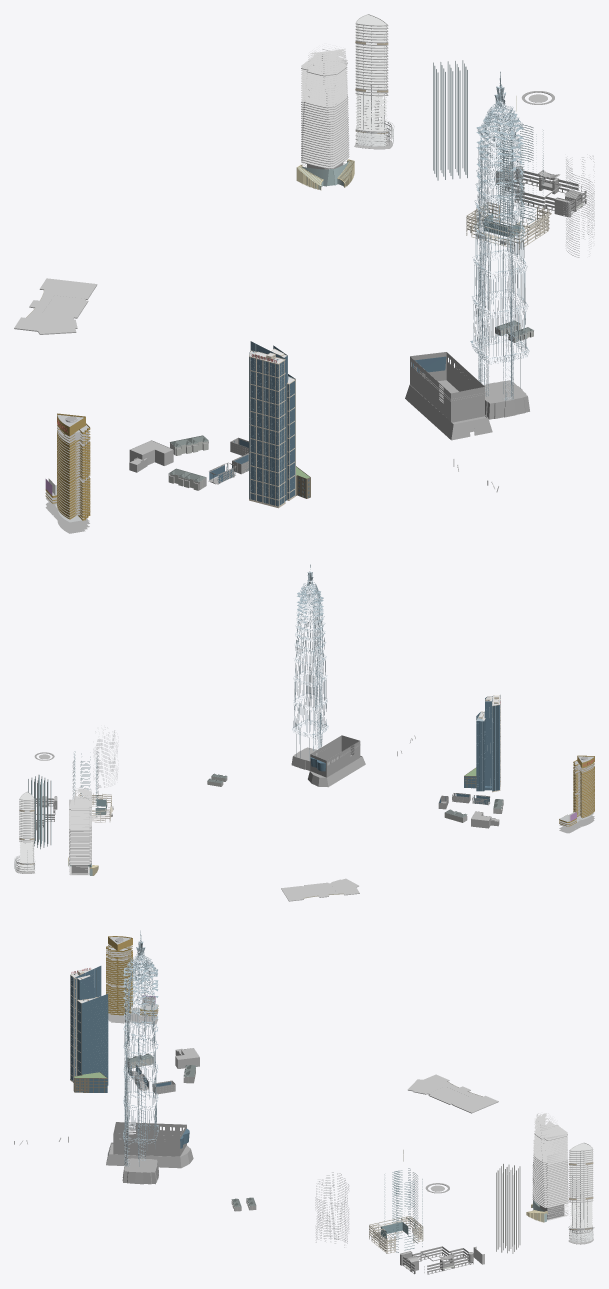
File: lujiazui-3.glb
3 renders of one model, top to bottom at view 1: azimuth 30°, elevation 25°; view 2: azimuth 150°, elevation 25°; view 3: azimuth 270°, elevation 25°, orthographic. The views are drawn at different scales.
Parts seen in each view (by area): view 1: source_2865_Mat3d66-1303573-2119-613_part2, source_2859_Mat3d66-1303573-2170-3213_part0, source_2863_Mat3d66-1303573-2035-4469_part0, source_2794_时代金融广场_楼板_part0, source_2783_周围建筑-金属1_part0, source_2791_银成中路十号_楼板_part0, source_2844_Mat3d66-1303573-229-4982_part0, source_2841_Mat3d66-1303573-250-848_part0, source_2865_Mat3d66-1303573-2119-613_part0, source_2853_樯4_part0, source_2865_Mat3d66-1303573-2119-613_part1, source_2796_时代金融广场_梁_part0 (+12 smaller); view 2: source_2865_Mat3d66-1303573-2119-613_part2, source_2863_Mat3d66-1303573-2035-4469_part0, source_2859_Mat3d66-1303573-2170-3213_part0, source_2794_时代金融广场_楼板_part0, source_2844_Mat3d66-1303573-229-4982_part0, source_2850_Mat3d66-1303573-2153-4388_part0, source_2791_银成中路十号_楼板_part0, source_2841_Mat3d66-1303573-250-848_part0, source_2796_时代金融广场_梁_part0, source_2865_Mat3d66-1303573-2119-613_part0, source_2865_Mat3d66-1303573-2119-613_part1, source_2781_华能联合大厦_玻璃2_part0 (+5 smaller); view 3: source_2859_Mat3d66-1303573-2170-3213_part0, source_2863_Mat3d66-1303573-2035-4469_part0, source_2865_Mat3d66-1303573-2119-613_part2, source_2794_时代金融广场_楼板_part0, source_2791_银成中路十号_楼板_part0, source_2844_Mat3d66-1303573-229-4982_part0, source_2796_时代金融广场_梁_part0, source_2841_Mat3d66-1303573-250-848_part0, source_2782__part0, source_2850_Mat3d66-1303573-2153-4388_part0, source_2785_Mat3d66-1303573-2046-7067_part0, source_2772_华能联合大厦_玻璃2_part0 (+8 smaller).
Boxes of the visible parts, left/top/right/bottom form: source_2865_Mat3d66-1303573-2119-613_part2: left=470, top=115, right=529, bottom=400; source_2859_Mat3d66-1303573-2170-3213_part0: left=249, top=341, right=309, bottom=506; source_2863_Mat3d66-1303573-2035-4469_part0: left=405, top=352, right=529, bottom=440; source_2794_时代金融广场_楼板_part0: left=301, top=49, right=348, bottom=168; source_2783_周围建筑-金属1_part0: left=433, top=60, right=467, bottom=180; source_2791_银成中路十号_楼板_part0: left=356, top=14, right=386, bottom=144; source_2844_Mat3d66-1303573-229-4982_part0: left=45, top=413, right=90, bottom=520; source_2841_Mat3d66-1303573-250-848_part0: left=14, top=278, right=97, bottom=334; source_2865_Mat3d66-1303573-2119-613_part0: left=471, top=71, right=529, bottom=396; source_2853_樯4_part0: left=249, top=348, right=295, bottom=508; source_2865_Mat3d66-1303573-2119-613_part1: left=472, top=96, right=528, bottom=318; source_2796_时代金融广场_梁_part0: left=301, top=46, right=349, bottom=169; source_2865_Mat3d66-1303573-2119-613_part2: left=293, top=590, right=328, bottom=760; source_2863_Mat3d66-1303573-2035-4469_part0: left=291, top=735, right=365, bottom=787; source_2859_Mat3d66-1303573-2170-3213_part0: left=464, top=696, right=499, bottom=791; source_2794_时代金融广场_楼板_part0: left=69, top=788, right=91, bottom=875; source_2844_Mat3d66-1303573-229-4982_part0: left=559, top=755, right=594, bottom=826; source_2850_Mat3d66-1303573-2153-4388_part0: left=559, top=763, right=594, bottom=833; source_2791_银成中路十号_楼板_part0: left=20, top=792, right=33, bottom=871; source_2841_Mat3d66-1303573-250-848_part0: left=281, top=878, right=359, bottom=901; source_2796_时代金融广场_梁_part0: left=69, top=787, right=91, bottom=874; source_2865_Mat3d66-1303573-2119-613_part0: left=292, top=564, right=328, bottom=748; source_2865_Mat3d66-1303573-2119-613_part1: left=293, top=579, right=327, bottom=710; source_2781_华能联合大厦_玻璃2_part0: left=28, top=775, right=51, bottom=848; source_2859_Mat3d66-1303573-2170-3213_part0: left=70, top=966, right=108, bottom=1092; source_2863_Mat3d66-1303573-2035-4469_part0: left=106, top=1122, right=193, bottom=1184; source_2865_Mat3d66-1303573-2119-613_part2: left=123, top=963, right=158, bottom=1166; source_2794_时代金融广场_楼板_part0: left=533, top=1113, right=568, bottom=1220; source_2791_银成中路十号_楼板_part0: left=570, top=1143, right=592, bottom=1238; source_2844_Mat3d66-1303573-229-4982_part0: left=106, top=936, right=158, bottom=1015; source_2796_时代金融广场_梁_part0: left=532, top=1113, right=568, bottom=1219; source_2841_Mat3d66-1303573-250-848_part0: left=408, top=1074, right=498, bottom=1113; source_2782__part0: left=496, top=1164, right=520, bottom=1253; source_2850_Mat3d66-1303573-2153-4388_part0: left=106, top=944, right=158, bottom=1024; source_2785_Mat3d66-1303573-2046-7067_part0: left=400, top=1183, right=473, bottom=1274; source_2772_华能联合大厦_玻璃2_part0: left=381, top=1168, right=422, bottom=1252.
Bounding box in the file's own units: 987 × 435 × 929.
